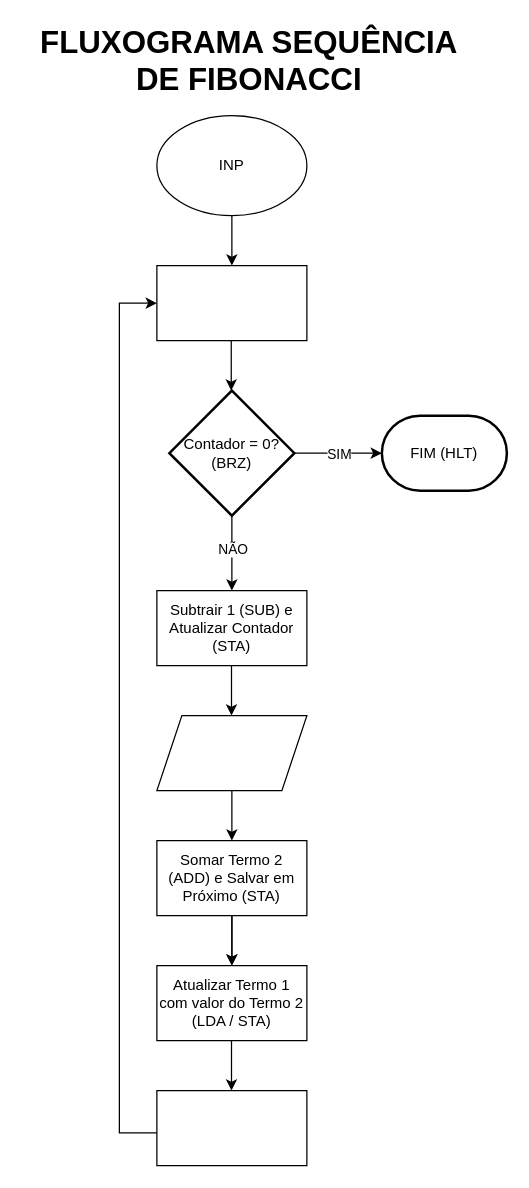
The diagram is 529 pixels wide and 1188 high, and some of its shapes have lost their labels. Each missing label, with the centre of its shape:
Atualizar Termo 2 com valor do Próximo (LDA / STA): [231,1127]
Carregar Contador (LDA): [231,302]
Carregar e Exibir Termo 1 (LDA / OUT): [231,752]
